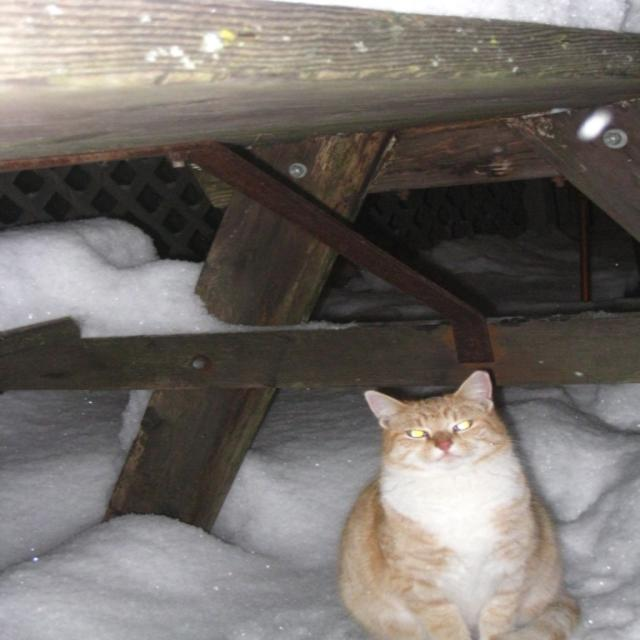Cat: (334, 366, 575, 638)
